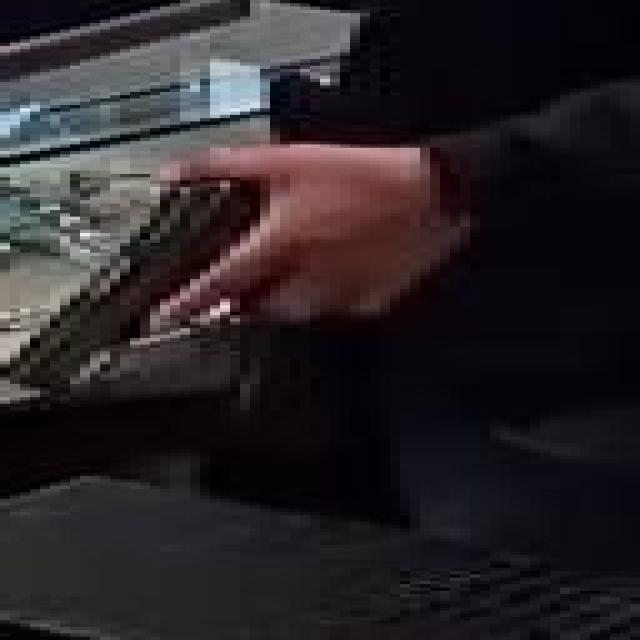Guns: (3, 159, 370, 416)
